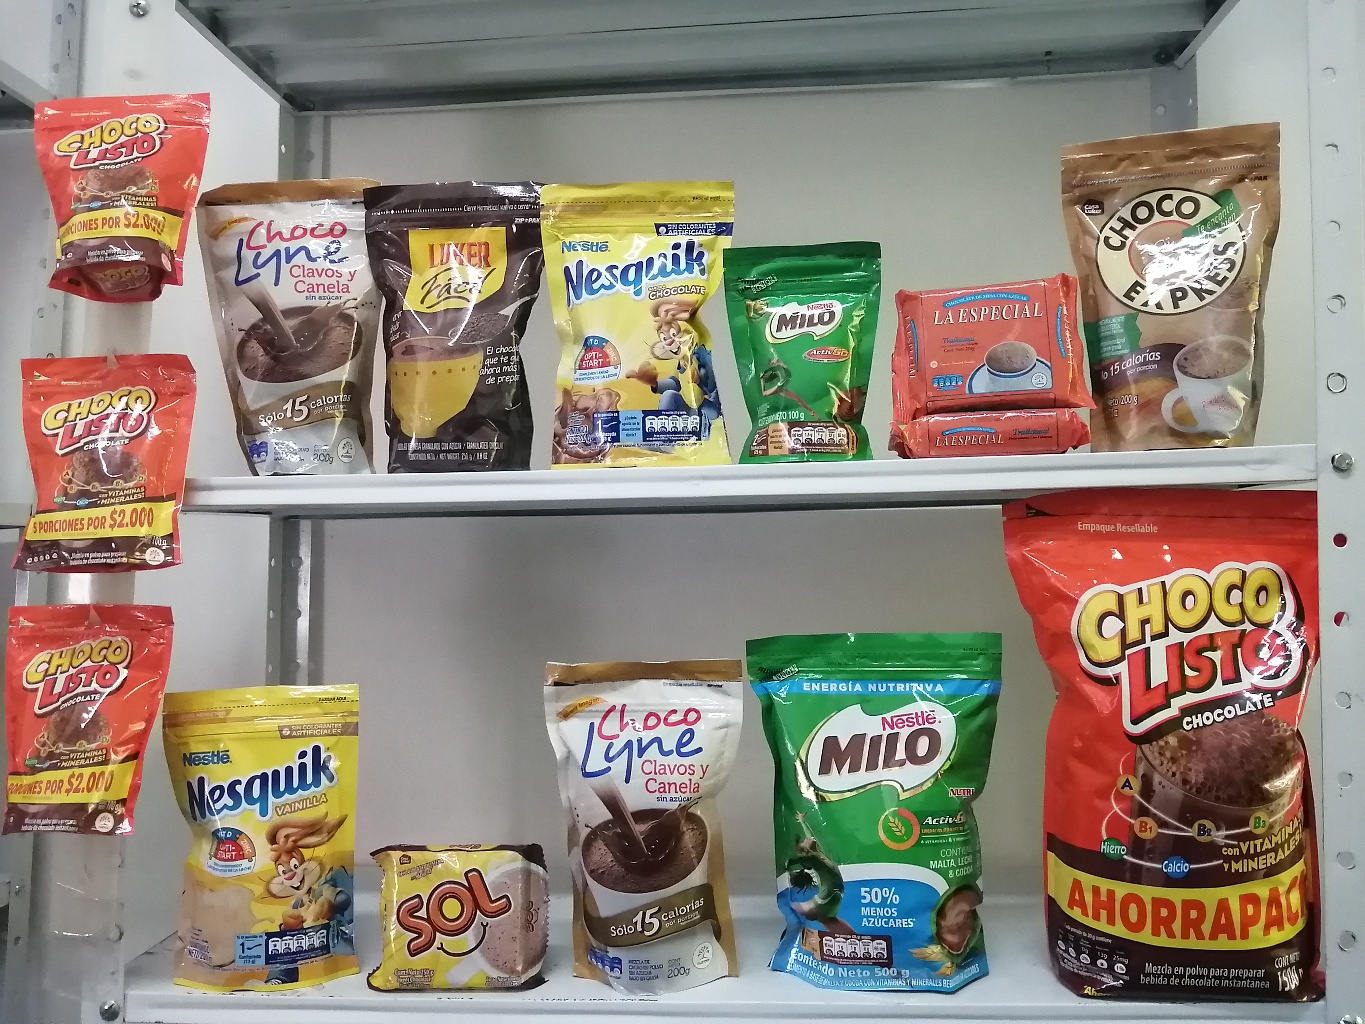COL0170103DYP1,500: (999, 486, 1326, 1001)
COL0170203DYP10000: (723, 234, 881, 457)
COL0170205DYP50000: (754, 617, 997, 1002)
COL0170303DYP20000: (537, 170, 737, 465)
COL0170306DYP20000: (141, 675, 365, 989)
